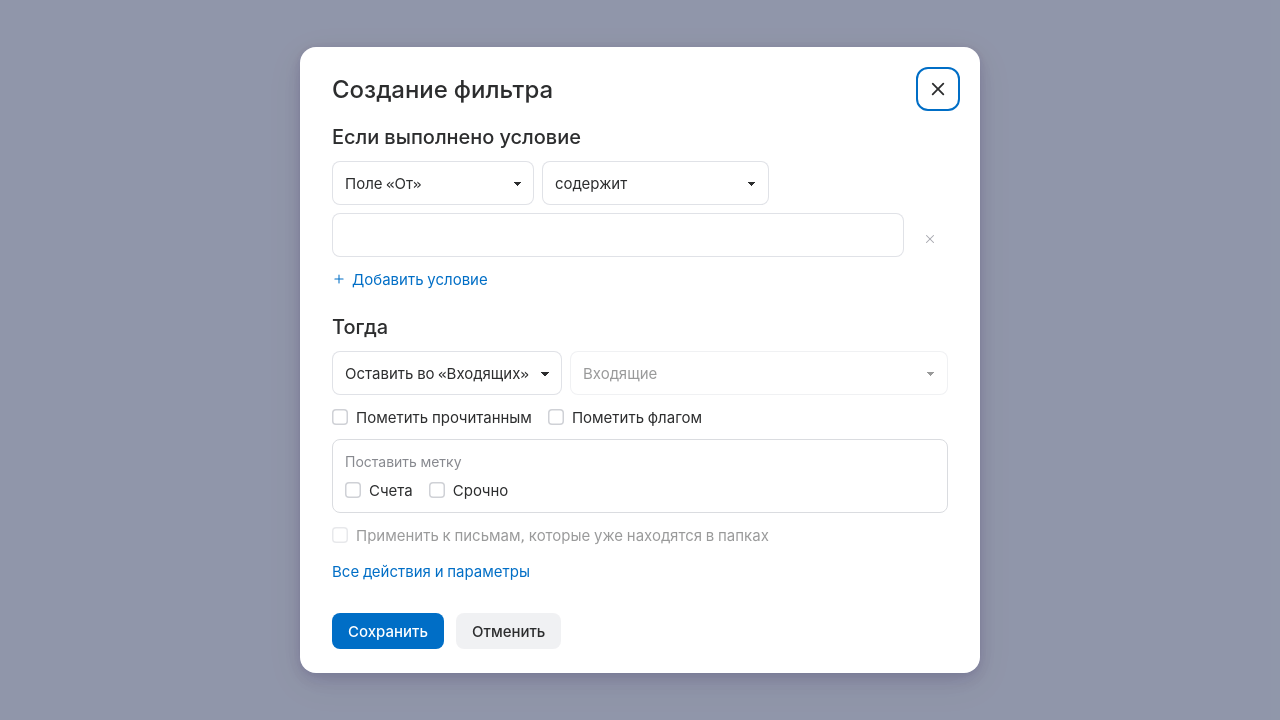
Test: условия › у «Вложения» нет поля значения, а у «Текста письма» есть
Expected: the field named "Значение" is shown, [332,213,904,257]
Select "Вложение" in the dropdown named "Поле письма" at (433, 183), box [332,161,534,205]
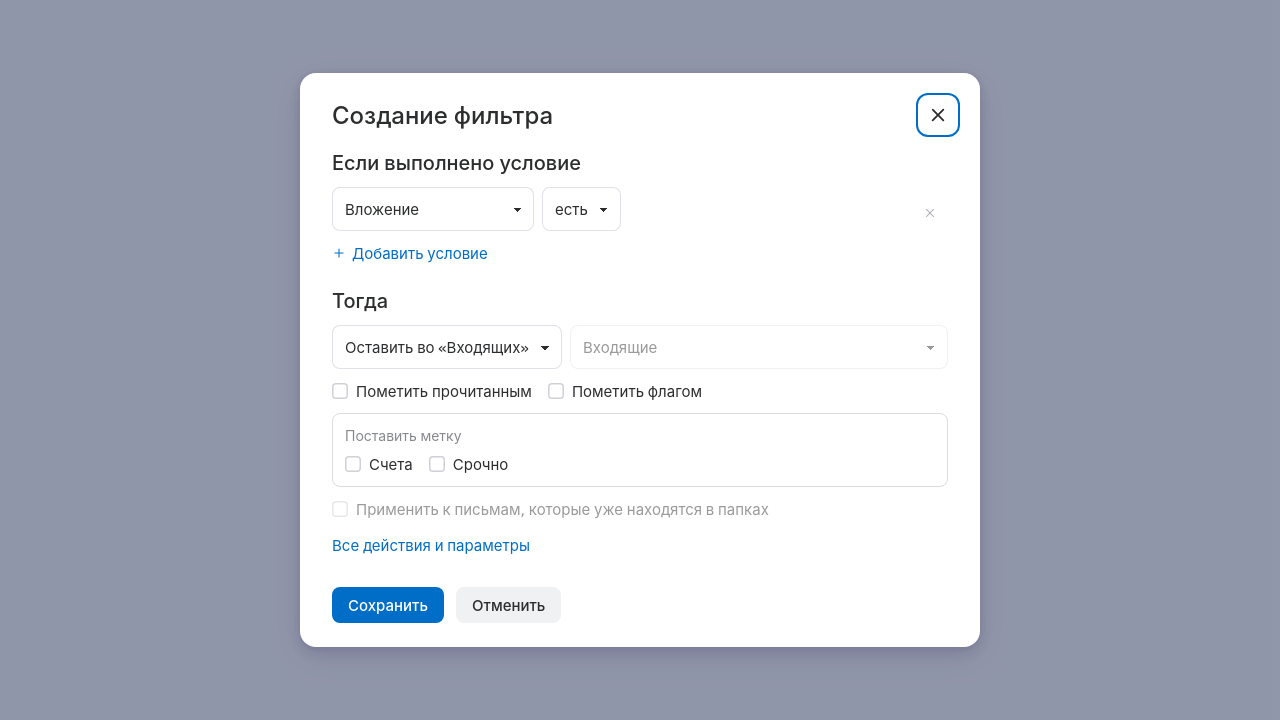
Expected: the field named "Значение" is gone
Select "Текст письма" in the dropdown named "Поле письма" at (433, 209), box [332,187,534,231]
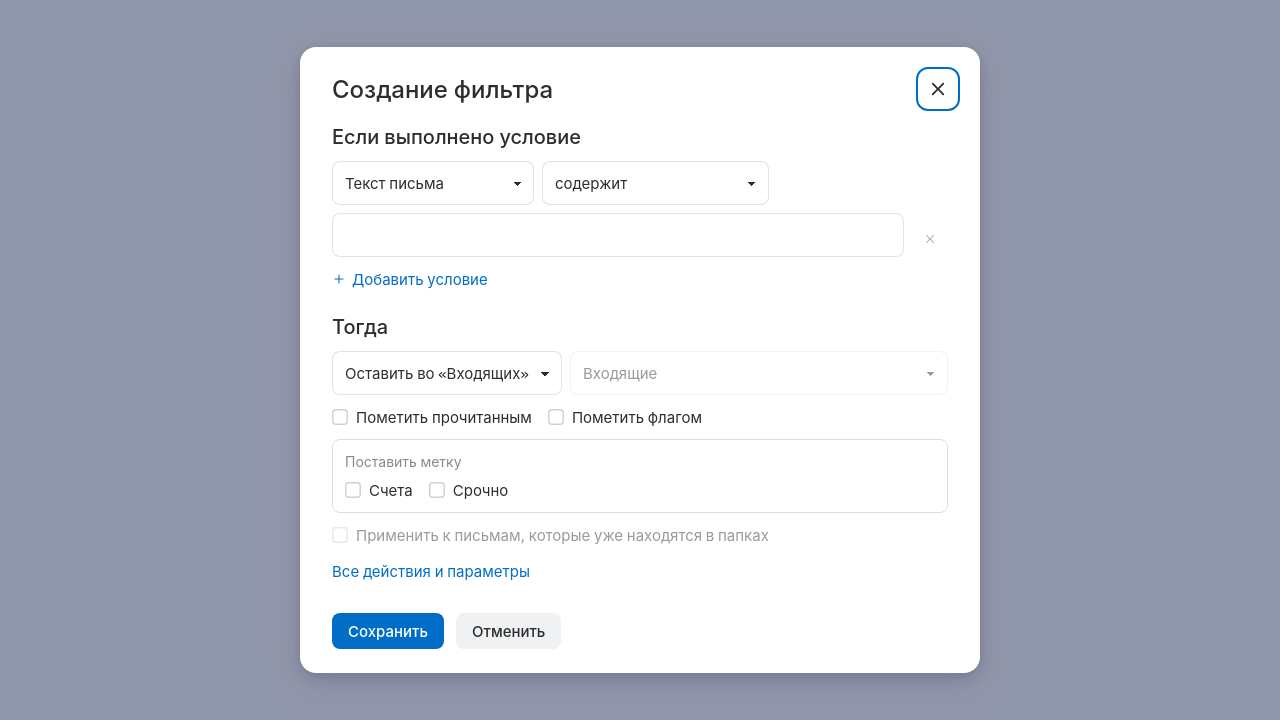
Expected: the field named "Значение" is shown, [332,213,904,257]
